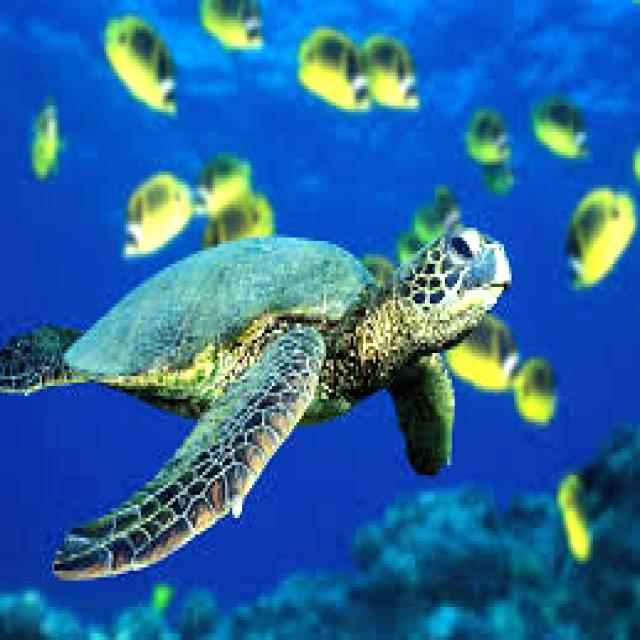Sea turtle: (0, 220, 522, 582)
